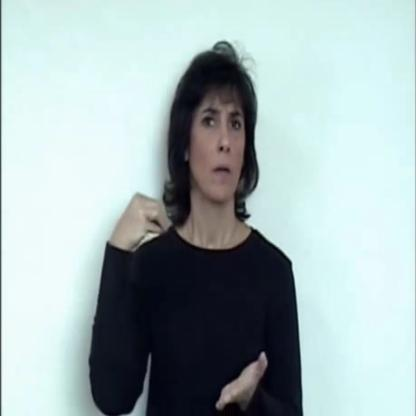Expensive: (101, 185, 272, 416)
